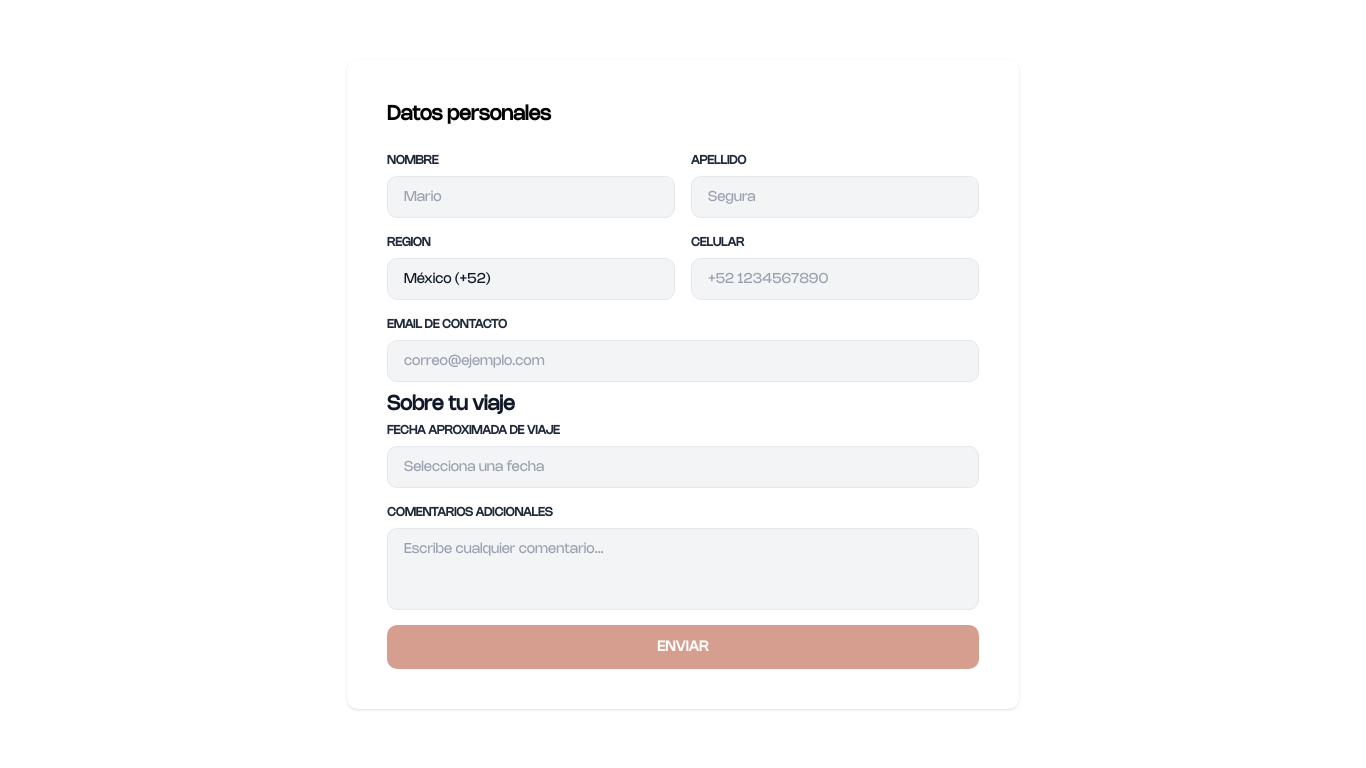
Test case: Contacto Form Component › 7. should select a date from calendar
Note: Open modal
Click the field with placeholder "Selecciona una fecha": (683, 466) 387,446 -> 979,488
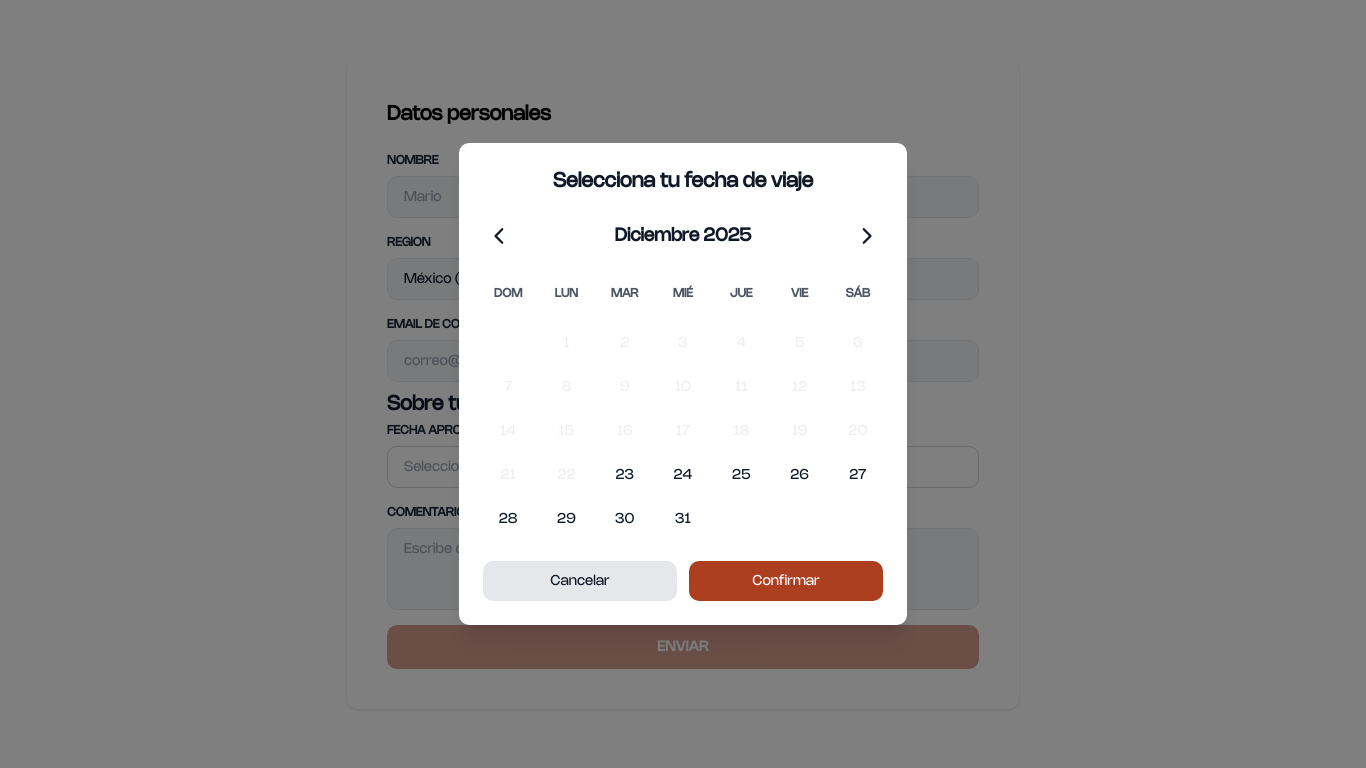
Check: the heading "Selecciona tu fecha de viaje" is shown, box 553,171 -> 813,191
Click the button "23": (625, 475) 600,457 -> 650,493
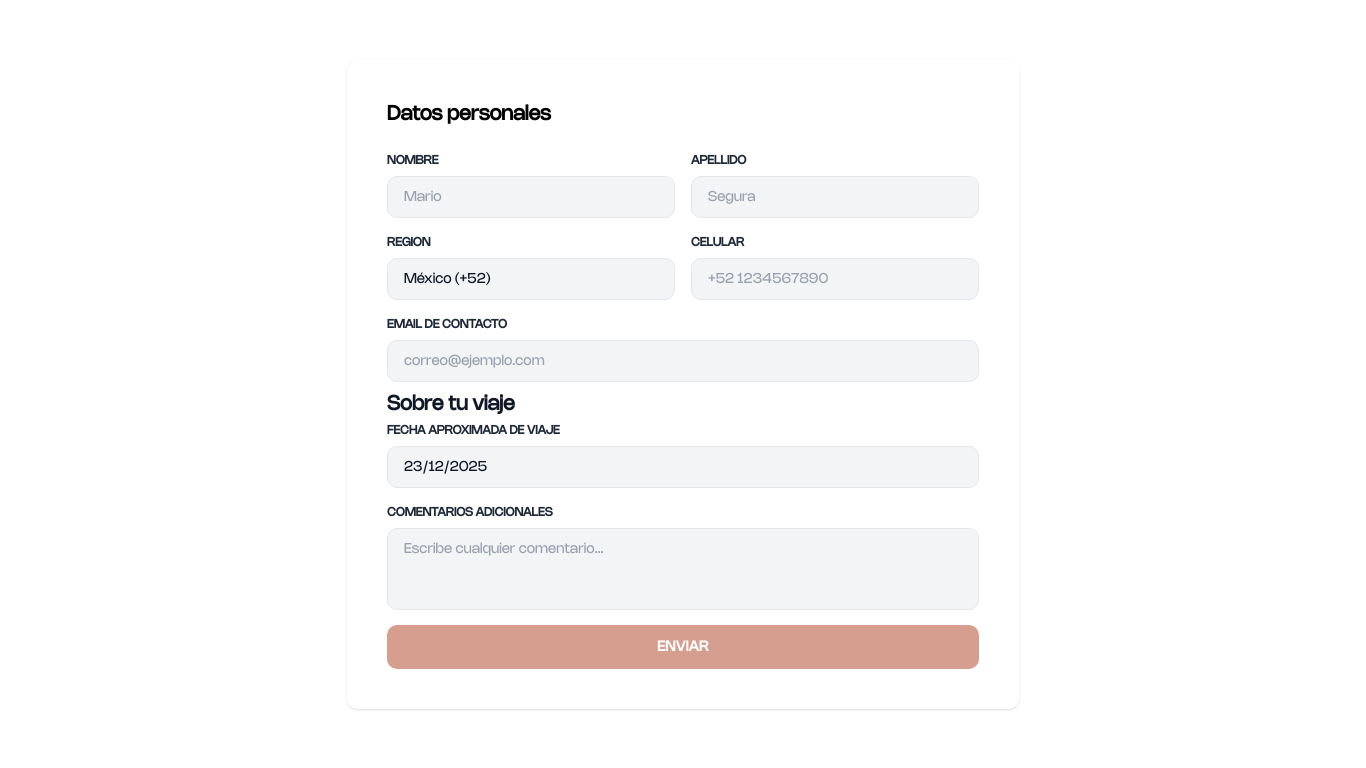
Check: the heading "Selecciona tu fecha de viaje" is gone
